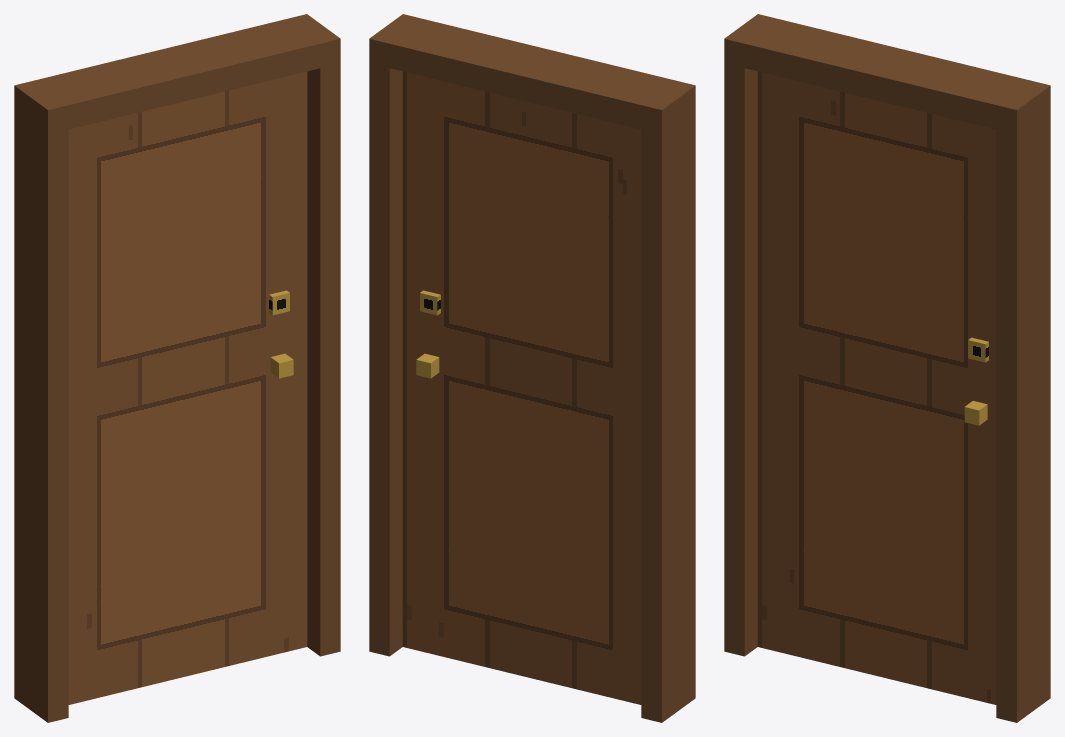
File: t_door_locked.glb
The picture shows the model from 3 angles, left to right: view 1: azimuth 30°, elevation 25°; view 2: azimuth 150°, elevation 25°; view 3: azimuth 330°, elevation 25°; orthographic projection.
Visible parts, largest first — view 1: block_panel, block_jamb-1, block_jamb1, block_head; view 2: block_panel, block_jamb-1, block_jamb1, block_head; view 3: block_panel, block_jamb1, block_jamb-1, block_head.
Boxes of the visible parts, bbox=[...] form: block_panel: bbox=[68, 71, 307, 704]; block_jamb-1: bbox=[14, 80, 68, 722]; block_jamb1: bbox=[287, 14, 340, 656]; block_head: bbox=[35, 19, 320, 129]; block_panel: bbox=[402, 71, 641, 704]; block_jamb-1: bbox=[641, 80, 695, 722]; block_jamb1: bbox=[369, 14, 422, 656]; block_head: bbox=[389, 19, 674, 129]; block_panel: bbox=[757, 71, 996, 704]; block_jamb1: bbox=[996, 80, 1050, 722]; block_jamb-1: bbox=[724, 14, 777, 656]; block_head: bbox=[744, 19, 1029, 129].
Size of the model in its own units: 1 by 2 by 0.2.
Materials: 2 (2 with a texture image).
